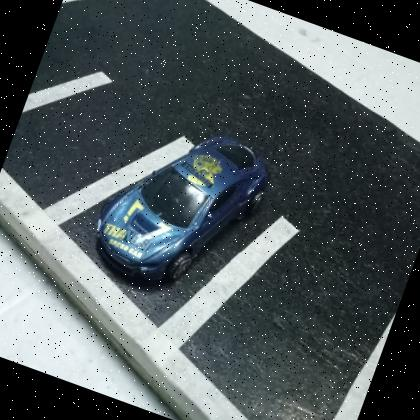Car: (95, 136, 268, 286)
